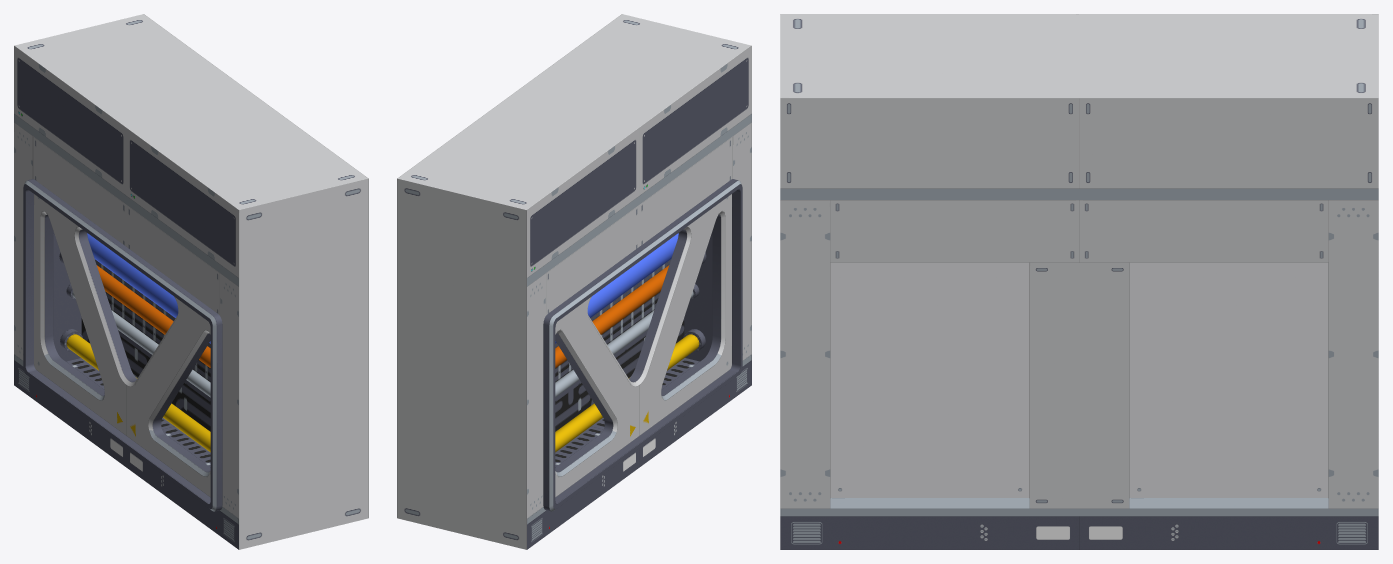
File: Wall_Normal_Simple_09_B.FBX
3 views of the same model, side by side, from view 1: azimuth 30°, elevation 25°; view 2: azimuth 150°, elevation 25°; view 3: azimuth 270°, elevation 25° (orthographic). The views are drawn at different scales.
Parts seen in each view (by area): view 1: Wall_Normal_Simple_09_B, Pipes; view 2: Wall_Normal_Simple_09_B, Pipes; view 3: Wall_Normal_Simple_09_B.
Part boxes in pixels (x1,y1,x2,y2): Wall_Normal_Simple_09_B: [14, 14, 368, 549]; Pipes: [53, 231, 210, 452]; Wall_Normal_Simple_09_B: [397, 14, 751, 549]; Pipes: [555, 231, 712, 452]; Wall_Normal_Simple_09_B: [780, 14, 1378, 549].
Size of the model in its own units: 2.13 by 5 by 6.
